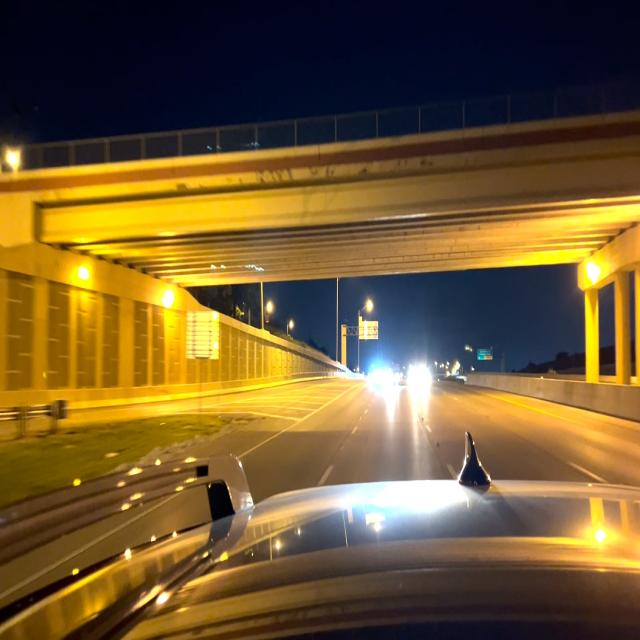back-of-sign: (188, 310, 220, 359)
